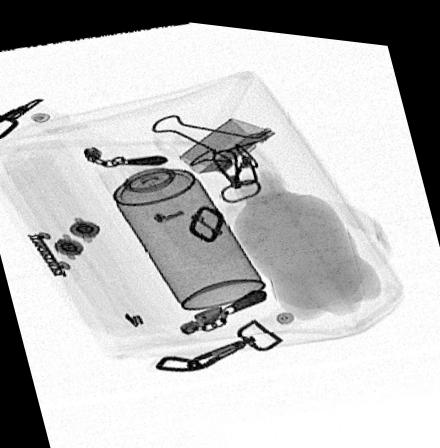Sprayer: (90, 134, 268, 308)
